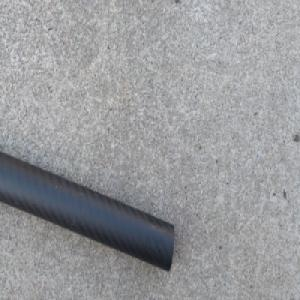LuggagePart: (0, 143, 176, 273)
